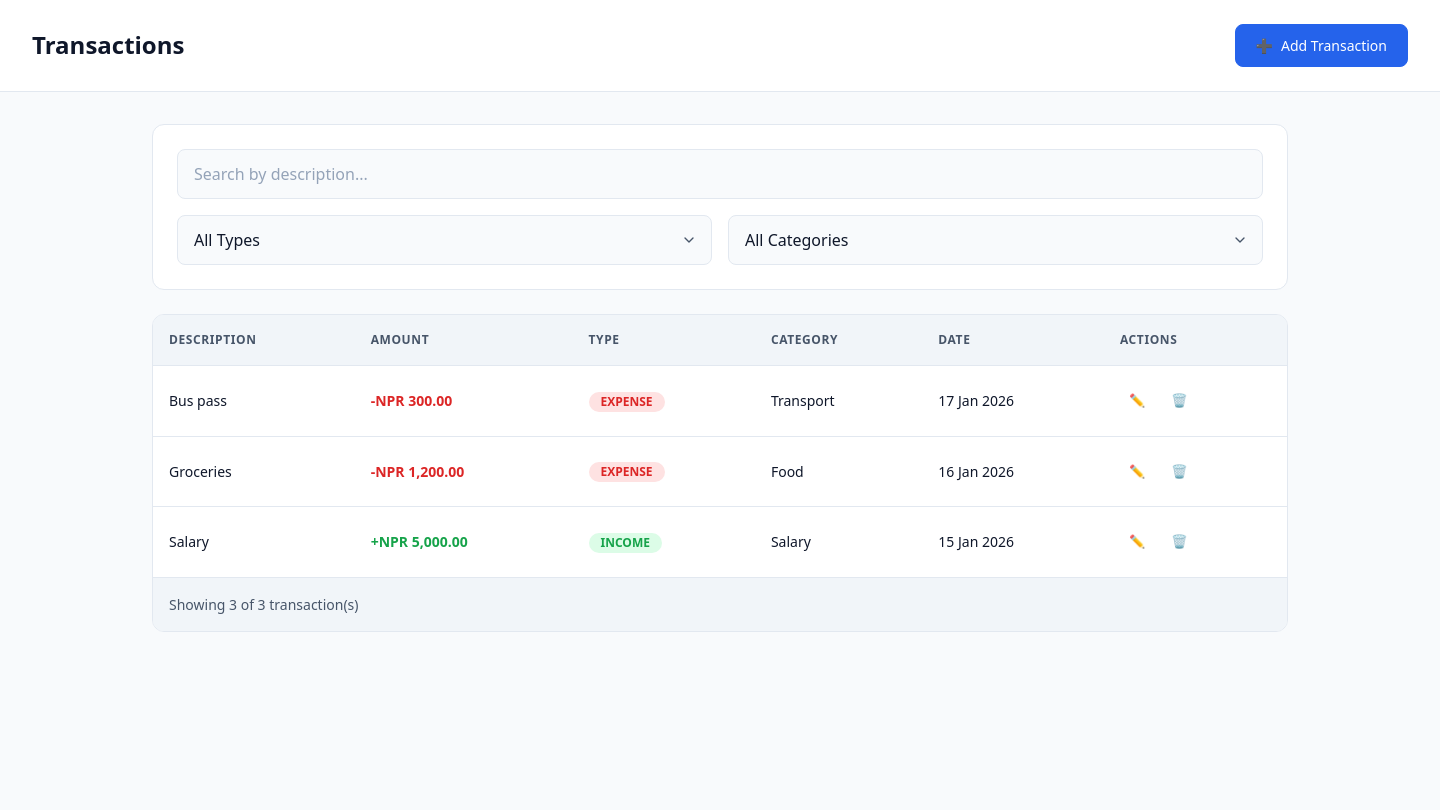
Test: TransactionListComponent › shows a message when a delete fails instead of failing silently
Click the button with class "btn--danger" in the row of "Bus pass" at (1179, 401), box [1162,382,1196,420]
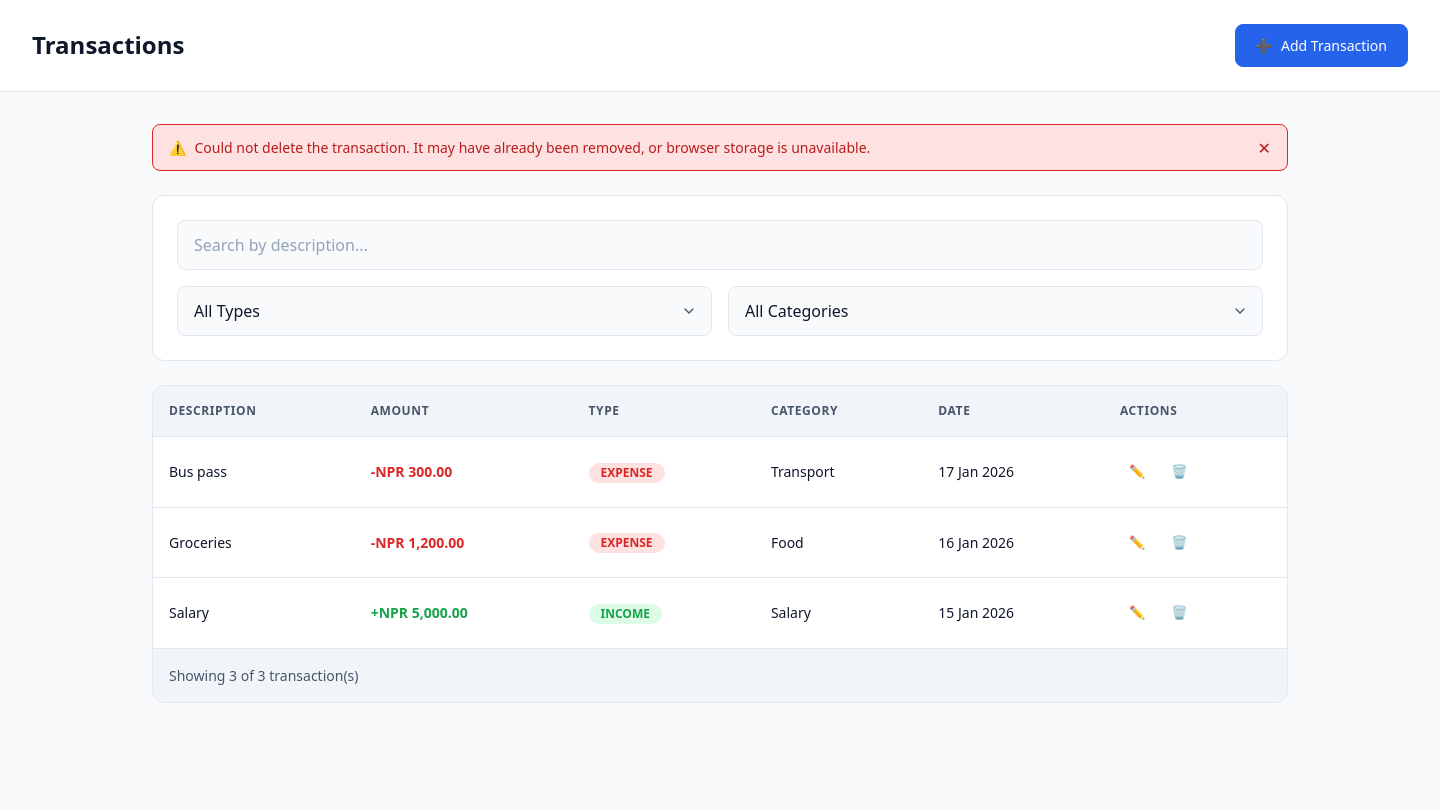
Result: the message with class "delete-error" shows "Could not delete" at [194,138,870,157]
